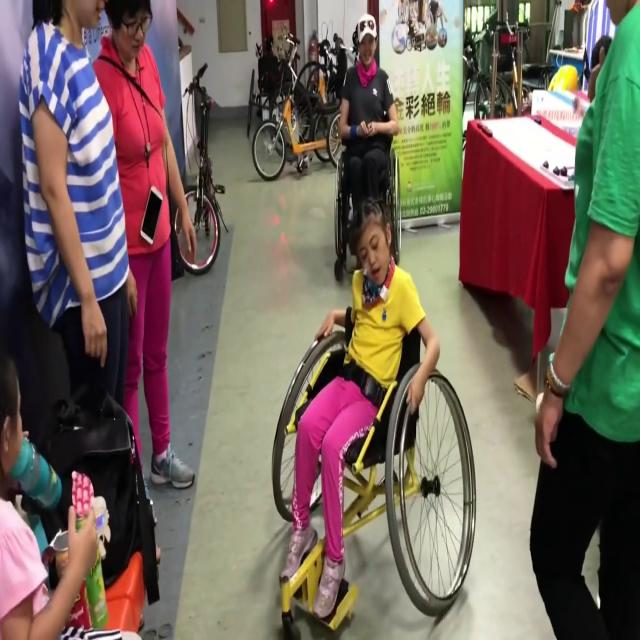wheelchairs: (258, 272, 515, 640)
